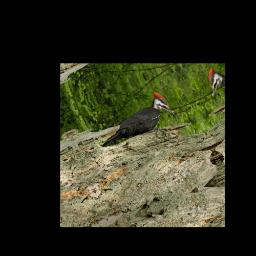Woodpecker: (88, 87, 182, 162)
